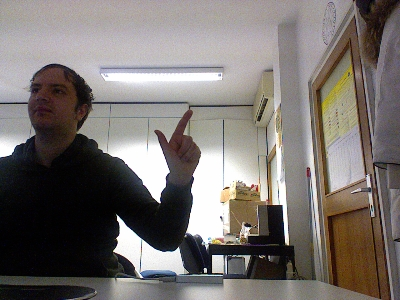枪: (152, 108, 202, 178)
